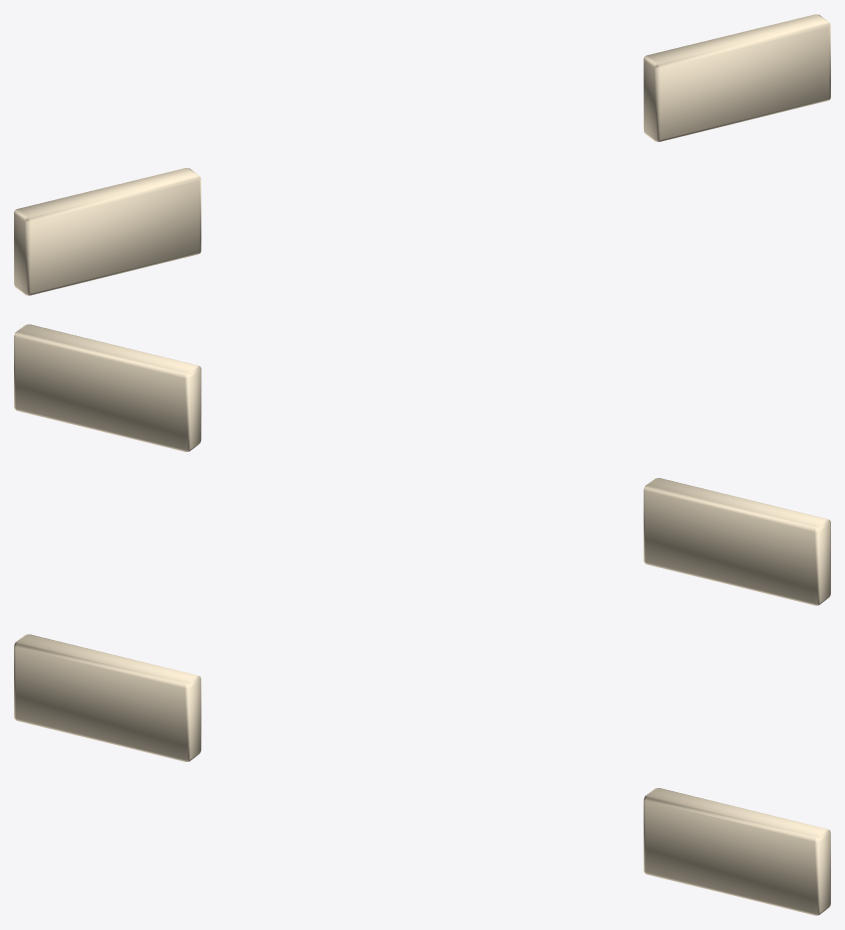
Rendered from Neon_Auto_Faros.fbx.
3 renders of one model, top to bottom at view 1: azimuth 30°, elevation 25°; view 2: azimuth 150°, elevation 25°; view 3: azimuth 330°, elevation 25°, orthographic.
Parts seen in each view (by area): view 1: Auto_Faros; view 2: Auto_Faros; view 3: Auto_Faros.
Part boxes in pixels (<box>): Auto_Faros: <box>14,14,830,295</box>; Auto_Faros: <box>14,324,830,605</box>; Auto_Faros: <box>14,634,830,915</box>.
Size of the model in its own units: 6.4 by 0.6 by 0.2.
